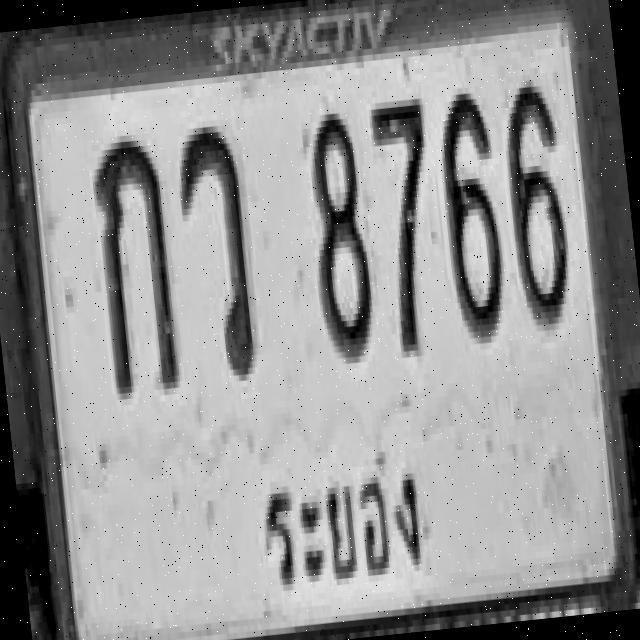10GorGai: (89, 132, 181, 394)
46WorWaen: (171, 118, 259, 378)
6: (434, 85, 509, 339), (499, 78, 573, 326)
7: (368, 92, 446, 352)
8: (299, 105, 376, 359)
Rayong: (250, 441, 432, 597)
